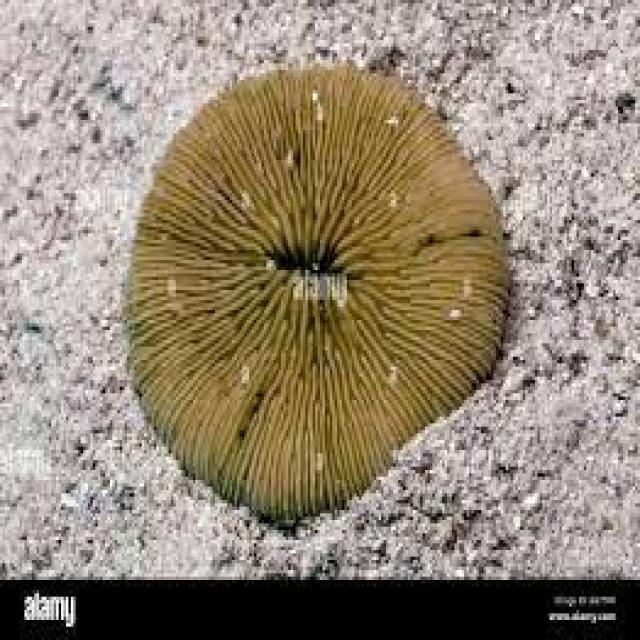Healthy Coral: (107, 56, 511, 527)
